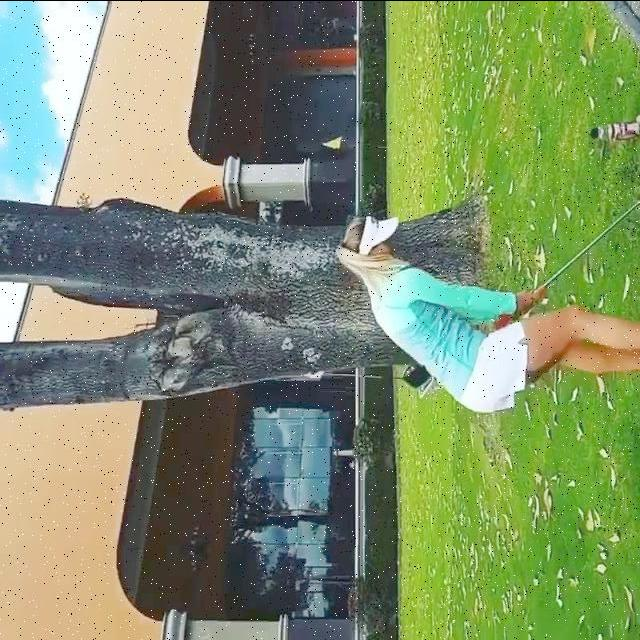golf club-handle: (536, 199, 640, 295)
